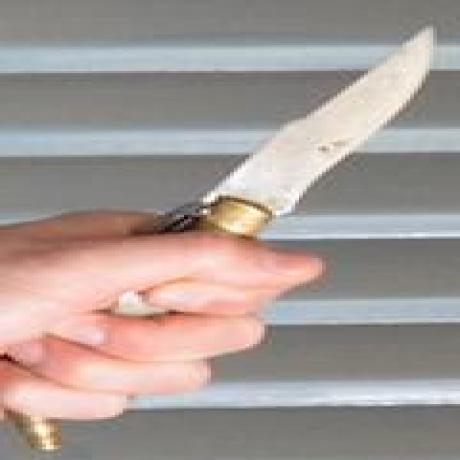1: (0, 196, 330, 445)
weapon: (157, 27, 442, 240)
